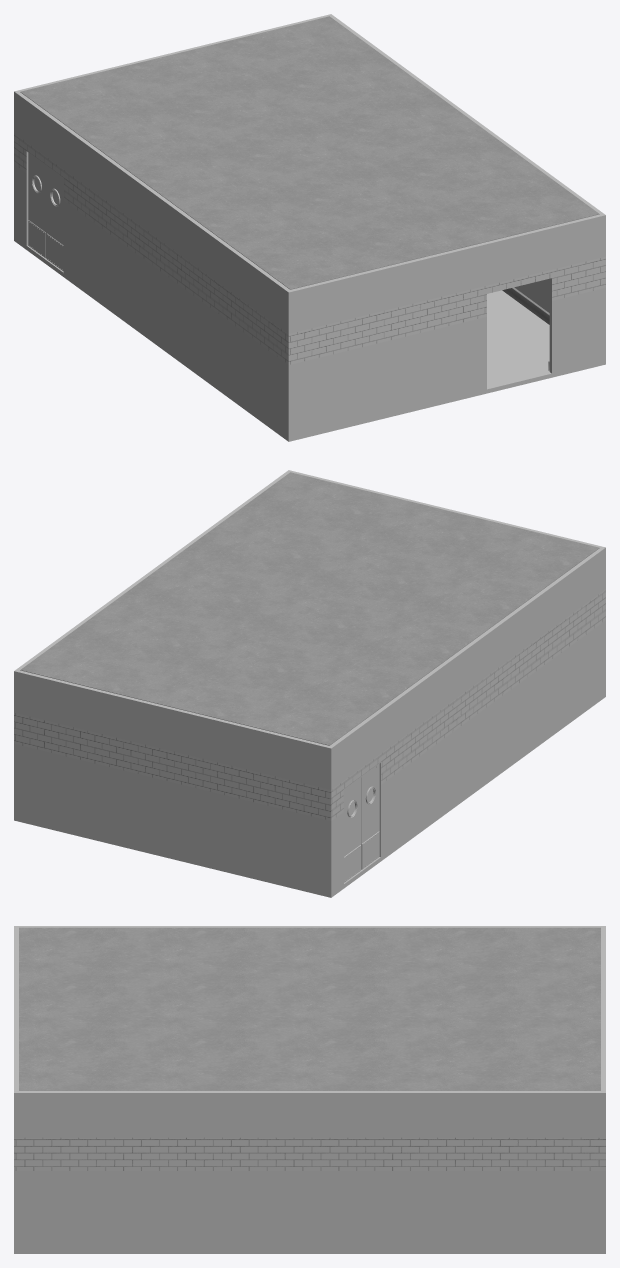
File: kitchen.fbx
3 renders of one model, top to bottom at view 1: azimuth 30°, elevation 25°; view 2: azimuth 150°, elevation 25°; view 3: azimuth 270°, elevation 25°, orthographic. The views are drawn at different scales.
Parts seen in each view (by area): view 1: SM_ceiling, SM_walls, SM_floor, SM_ktchen_door_right, SM_ktchen_door_left; view 2: SM_walls, SM_ceiling, SM_floor, SM_ktchen_door_left, SM_ktchen_door_right; view 3: SM_walls, SM_ceiling, SM_floor.
Boxes of the visible parts, left/top/right/bottom form: SM_ceiling: left=20, top=16, right=599, bottom=289; SM_walls: left=14, top=14, right=605, bottom=437; SM_floor: left=14, top=237, right=605, bottom=441; SM_ktchen_door_right: left=28, top=153, right=46, bottom=258; SM_ktchen_door_left: left=46, top=166, right=63, bottom=271; SM_walls: left=14, top=470, right=605, bottom=893; SM_ceiling: left=20, top=472, right=599, bottom=745; SM_floor: left=14, top=693, right=605, bottom=897; SM_ktchen_door_left: left=361, top=764, right=379, bottom=869; SM_ktchen_door_right: left=344, top=777, right=360, bottom=882; SM_walls: left=14, top=926, right=605, bottom=1249; SM_ceiling: left=19, top=927, right=600, bottom=1090; SM_floor: left=14, top=1249, right=605, bottom=1253.
Size of the model in its own units: 800 by 361 by 1200.
